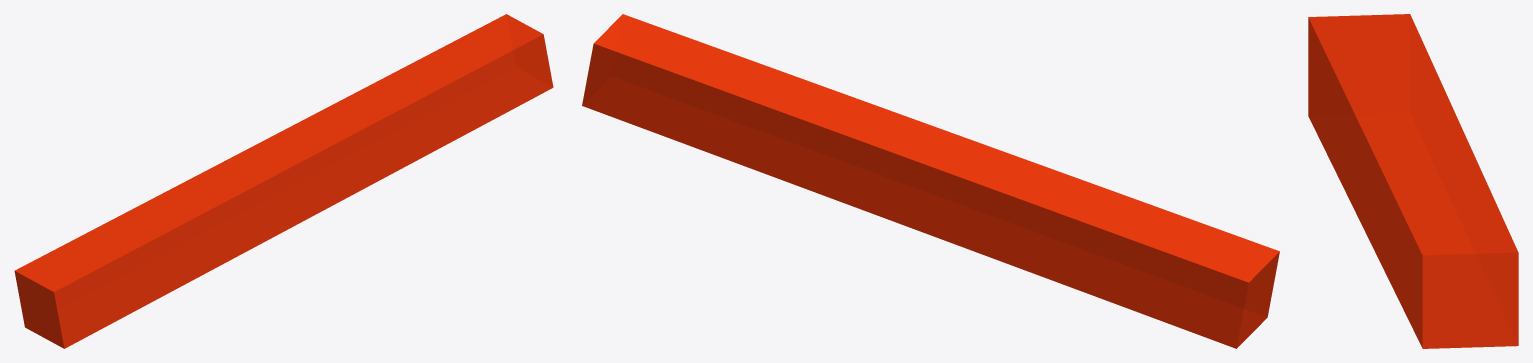
File: Event_421127236_EErechit_32.fbx
The picture shows the model from 3 angles, left to right: view 1: azimuth 30°, elevation 25°; view 2: azimuth 150°, elevation 25°; view 3: azimuth 270°, elevation 25°; orthographic projection. The views are drawn at different scales.
Parts seen in each view (by area): view 1: Model; view 2: Model; view 3: Model.
Boxes of the visible parts, bbox=[...] form: Model: bbox=[14, 14, 553, 348]; Model: bbox=[582, 14, 1279, 348]; Model: bbox=[1308, 14, 1518, 348].
Size of the model in its own units: 0.7259 by 0.2079 by 0.1581.
